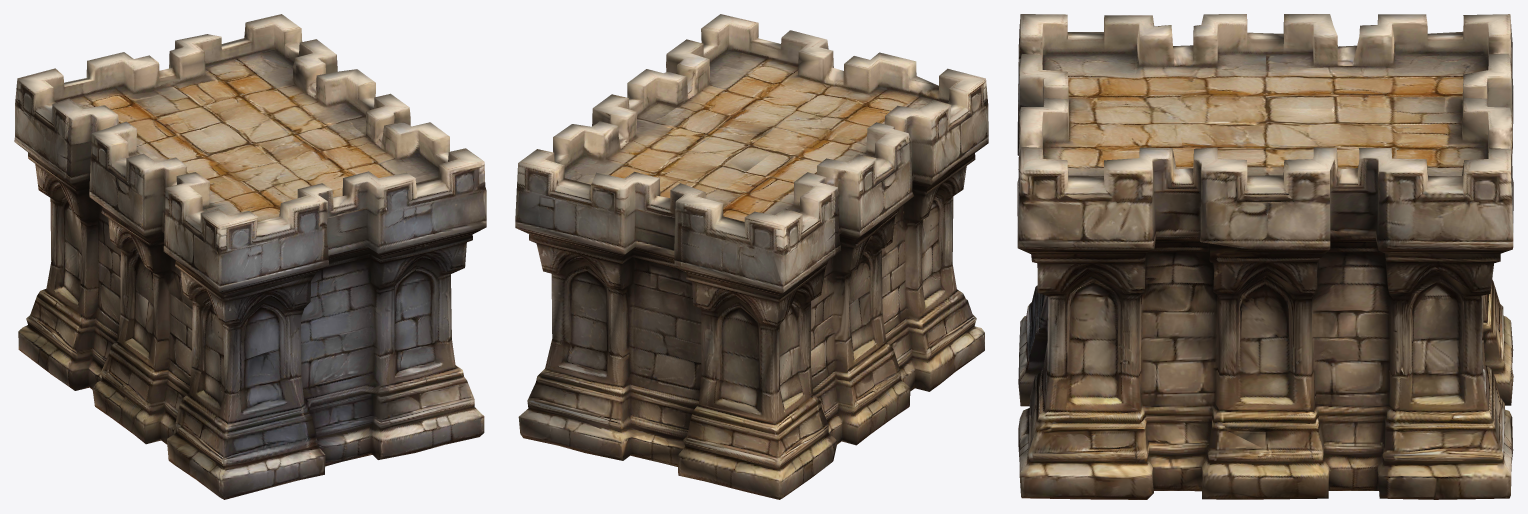
File: WallTower.fbx
3 renders of one model, left to right at view 1: azimuth 30°, elevation 25°; view 2: azimuth 150°, elevation 25°; view 3: azimuth 270°, elevation 25°, orthographic. The views are drawn at different scales.
Visible parts, largest first — view 1: tripo_node_28607495-18d4-4b72-a52a-b437fc2228a4; view 2: tripo_node_28607495-18d4-4b72-a52a-b437fc2228a4; view 3: tripo_node_28607495-18d4-4b72-a52a-b437fc2228a4.
Boxes of the visible parts, <box> form: tripo_node_28607495-18d4-4b72-a52a-b437fc2228a4: <box>14,14,486,499</box>; tripo_node_28607495-18d4-4b72-a52a-b437fc2228a4: <box>515,14,988,499</box>; tripo_node_28607495-18d4-4b72-a52a-b437fc2228a4: <box>1017,14,1513,499</box>.
Size of the model in its own units: 75.53 by 74.03 by 100.
1 material, 1 textured.
